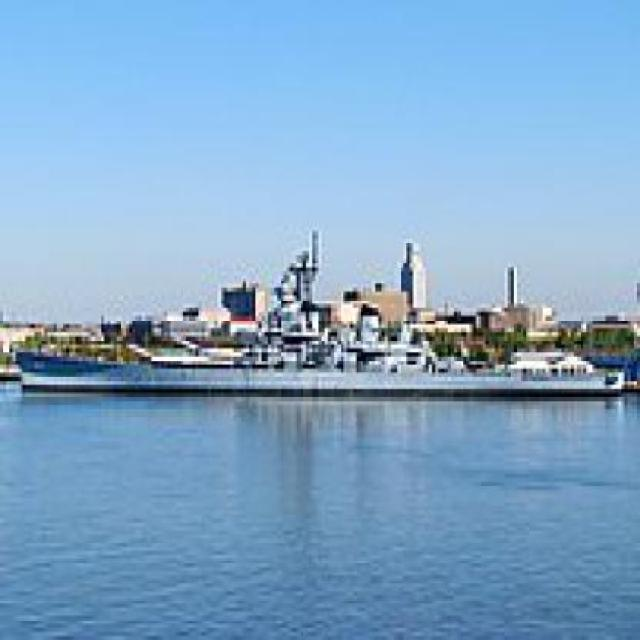warship2: (13, 232, 638, 406)
